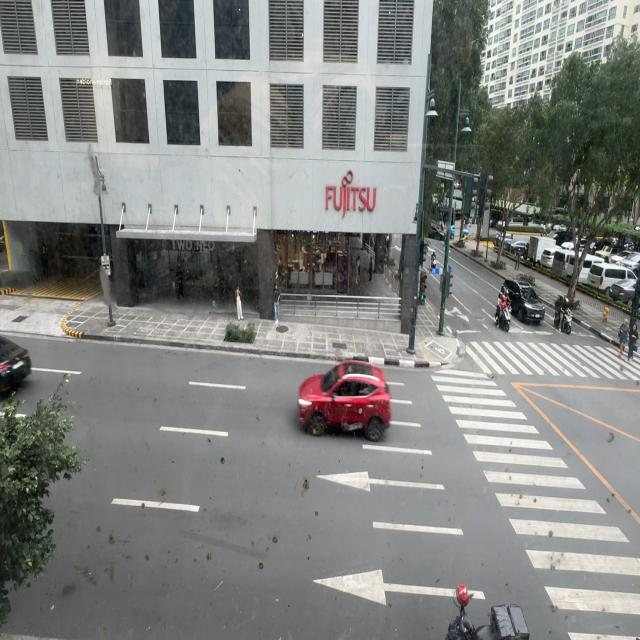crossing: (626, 324, 638, 363), (618, 319, 629, 357)
pedestrain: (236, 285, 243, 321), (274, 284, 280, 322)
